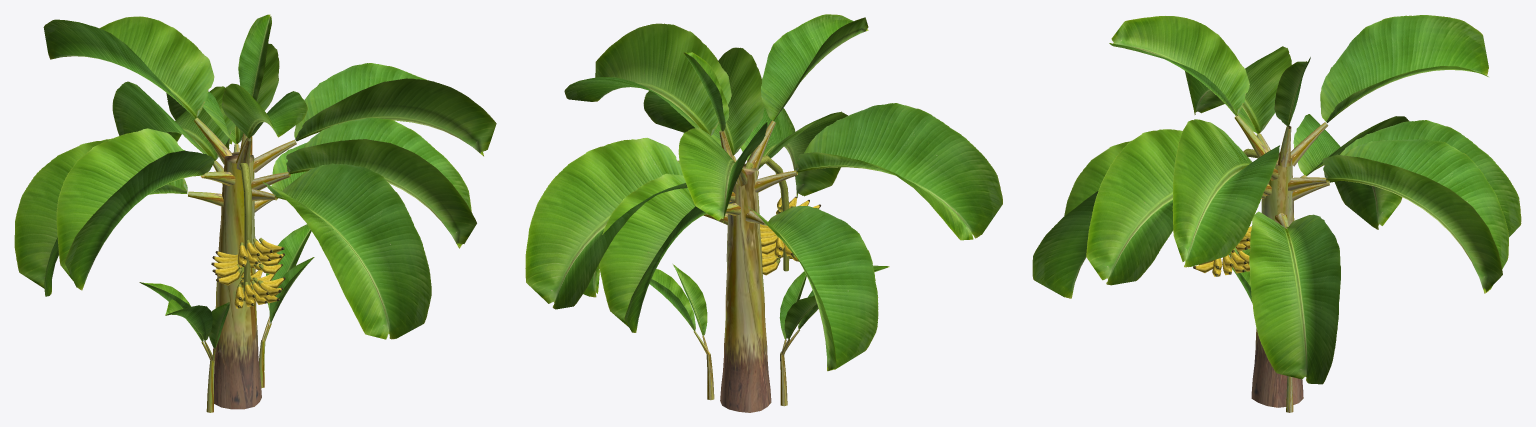
The model's file is BananaTree_Ripe.fbx.
3 renders of one model, left to right at view 1: azimuth 30°, elevation 25°; view 2: azimuth 150°, elevation 25°; view 3: azimuth 270°, elevation 25°, orthographic. The views are drawn at different scales.
Parts seen in each view (by area): view 1: BananaTree_Ripe_LOD0; view 2: BananaTree_Ripe_LOD0; view 3: BananaTree_Ripe_LOD0.
Part boxes in pixels (box(x1,y1,x2,y2)): BananaTree_Ripe_LOD0: box(14, 14, 496, 412); BananaTree_Ripe_LOD0: box(525, 14, 1002, 412); BananaTree_Ripe_LOD0: box(1032, 15, 1521, 412).
Size of what is drawn, in the model's own units: 3.98 by 3.2 by 3.94.
